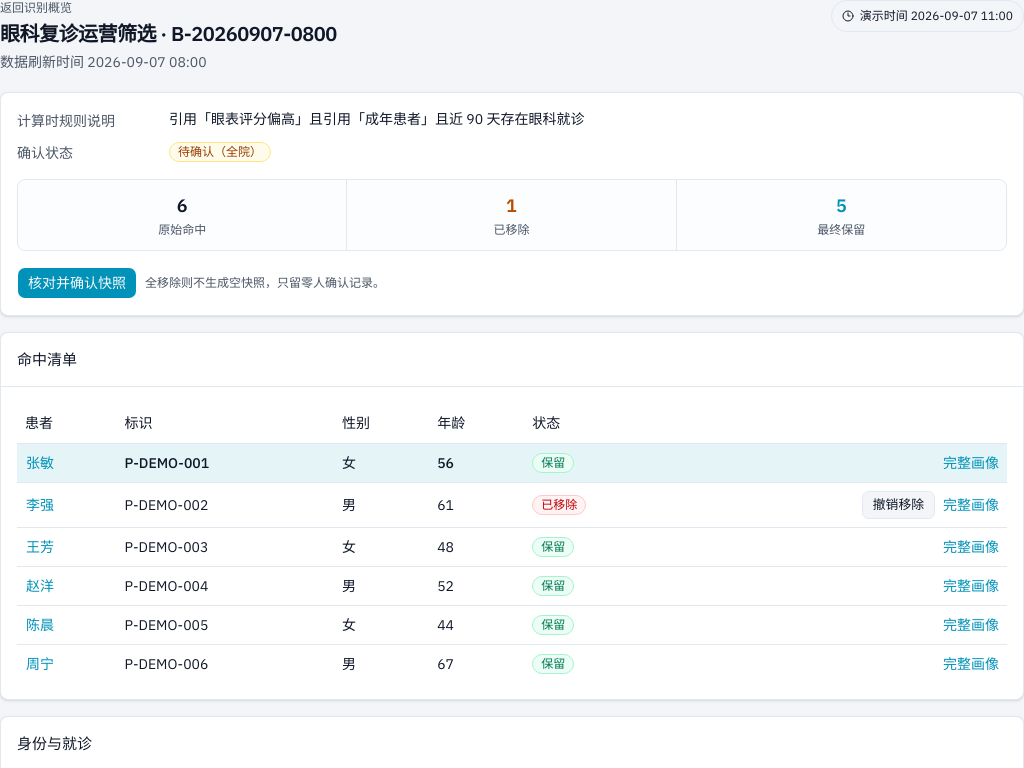
Test: 识别批次 UI › 移除可撤销，确认前明确展示原始、移除和保留人数
The width and height of the screenshot is (1024, 768).
Check: the element named "复核人数汇总" reads "6 原始命中 1 已移除 5 最终保留", box [17, 179, 1007, 251]
Click the button with test id "confirm-batch".
click(77, 283)  # box [17, 267, 137, 299]
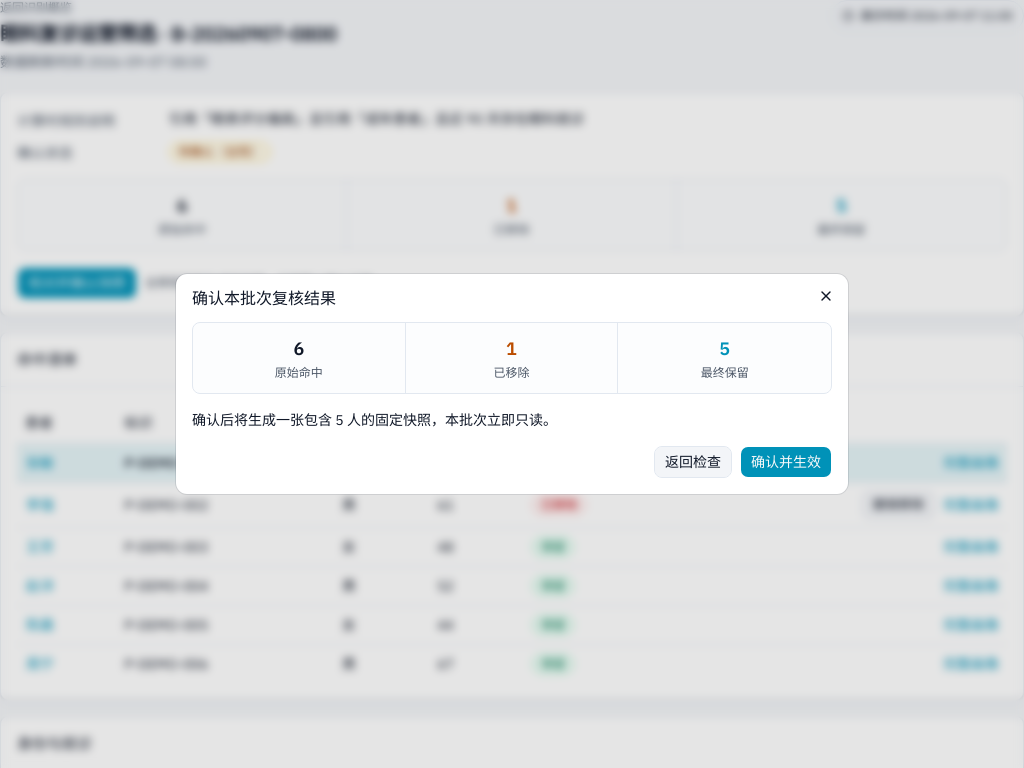
Click the button "返回检查".
click(693, 462)  # box [654, 446, 732, 478]
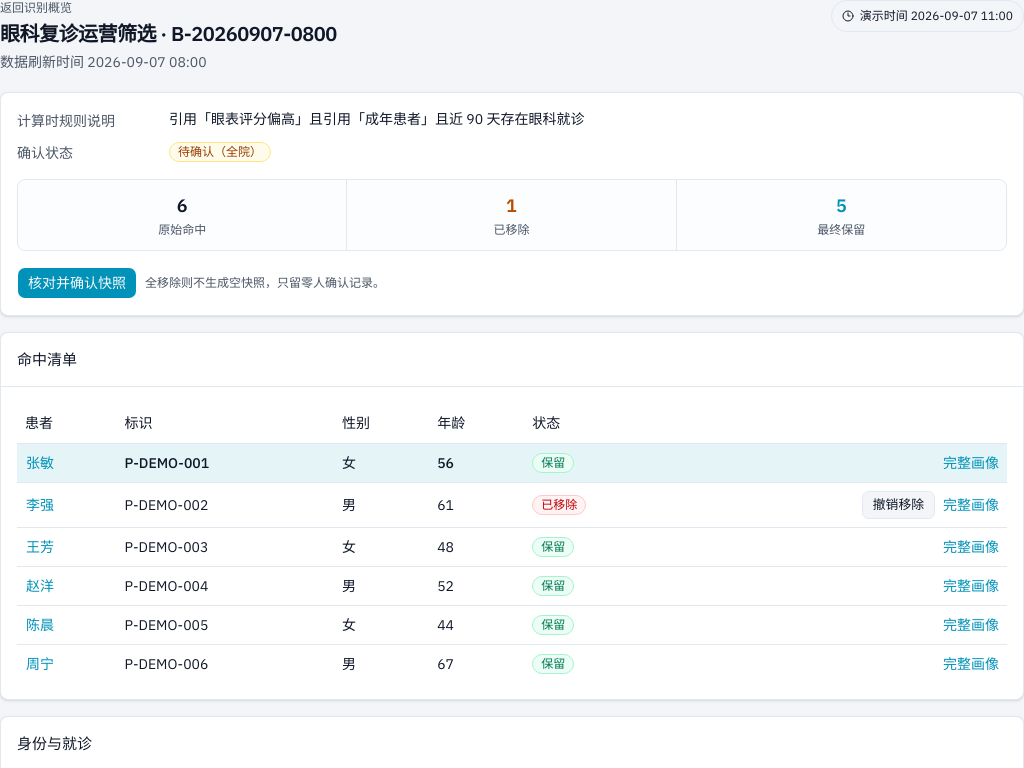
Click the button "撤销移除".
click(898, 505)  # box [862, 491, 935, 519]
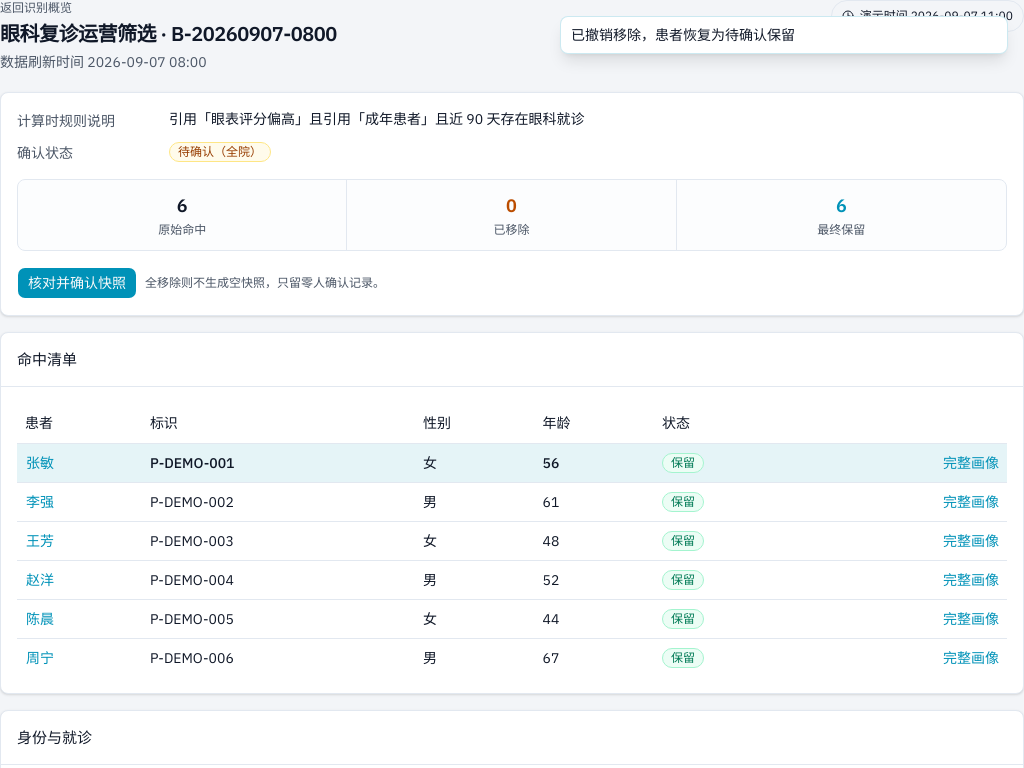
Check: the text with test id "retained-count" reads "6", box [836, 194, 847, 217]
